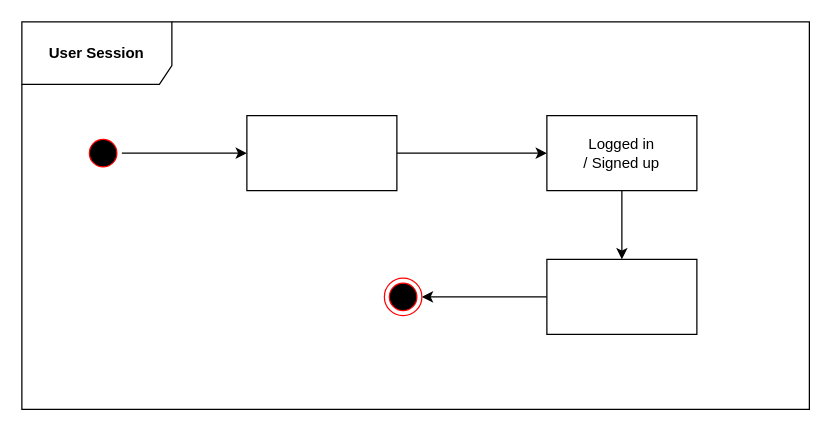
This 831x431 diagram has some shape labels left out. The centre of each missing label's shape, as x and y in pixels:
"Logged out" belongs at point 621,296.
"Not logged in / not signed up" belongs at point 321,152.
